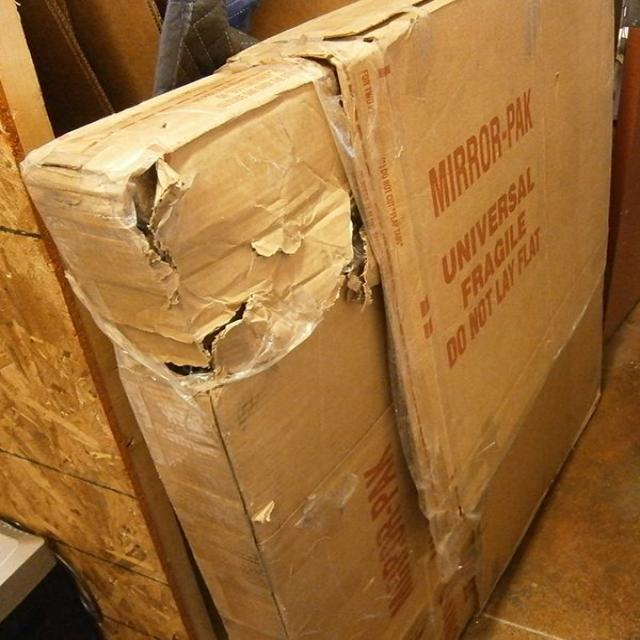hole: (153, 300, 265, 382), (124, 159, 184, 281)
